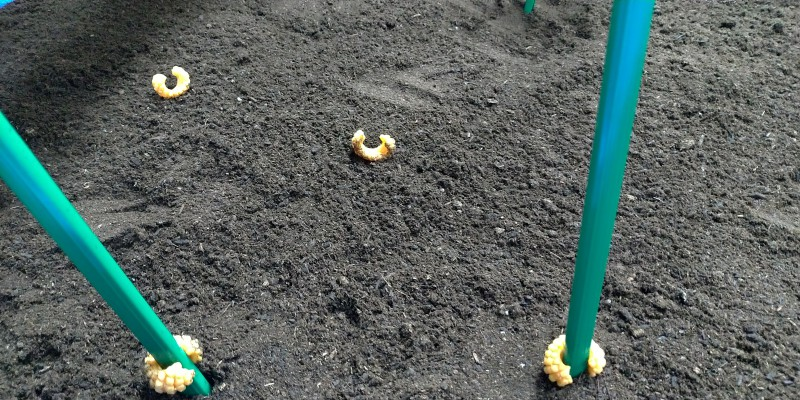eggs: (534, 329, 609, 391), (139, 332, 207, 396), (343, 126, 399, 164), (148, 63, 197, 101)
